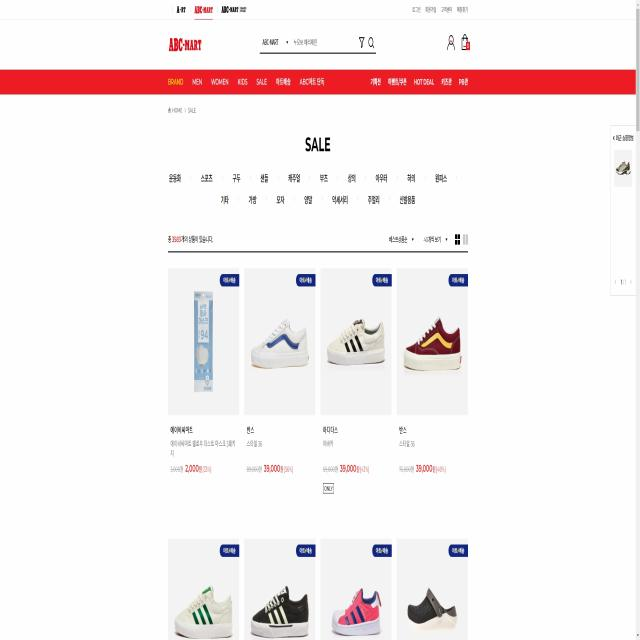menu-bar: (441, 31, 476, 60)
search: (259, 32, 379, 58)
tab-bar: (164, 166, 466, 213), (166, 70, 326, 92), (368, 72, 470, 92)
